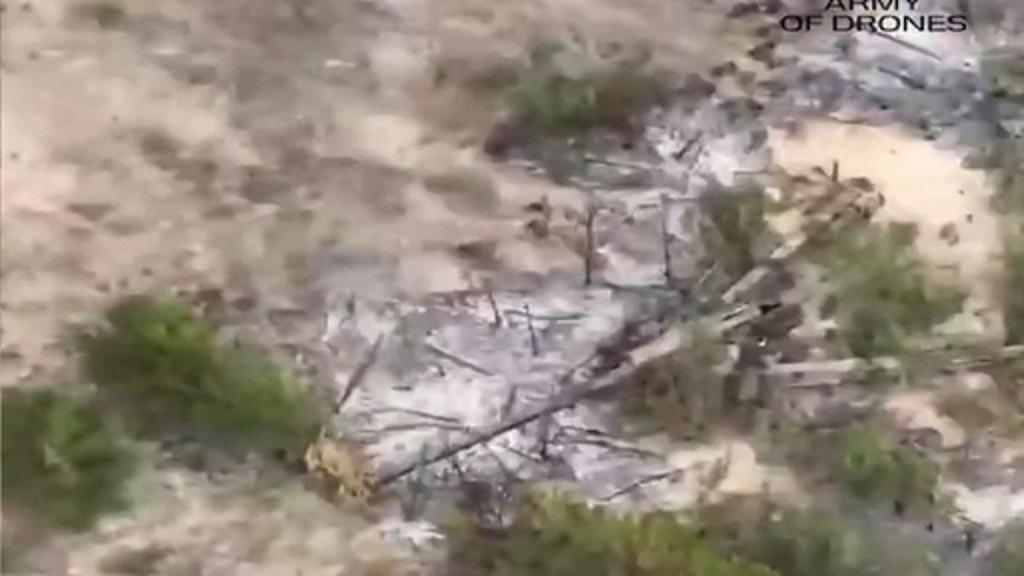ART: (344, 188, 1018, 498)
